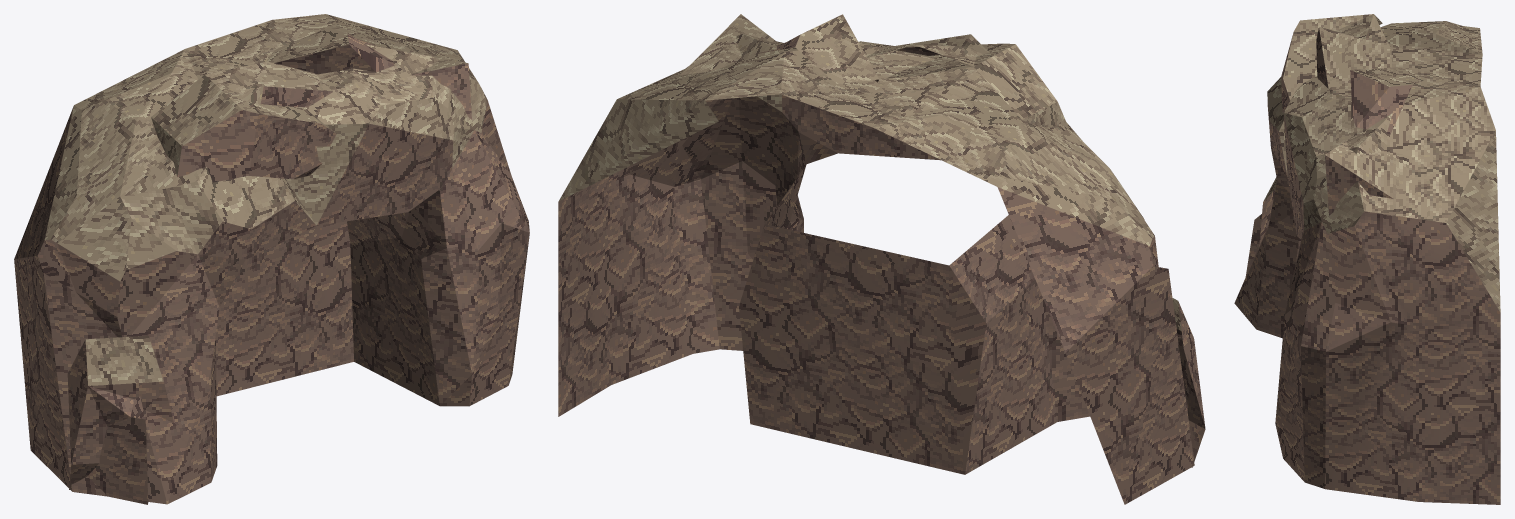
The model's file is TracksEntrance_RocksA.fbx.
3 views of the same model, side by side, from view 1: azimuth 30°, elevation 25°; view 2: azimuth 150°, elevation 25°; view 3: azimuth 270°, elevation 25° (orthographic). The views are drawn at different scales.
Parts seen in each view (by area): view 1: S_MineRockA; view 2: S_MineRockA; view 3: S_MineRockA.
Boxes of the visible parts, x1,y1,x2,y2 form: S_MineRockA: [14, 14, 529, 504]; S_MineRockA: [558, 14, 1205, 504]; S_MineRockA: [1234, 14, 1500, 504].
Bounding box in the file's own units: 471 × 330 × 229.
Materials: 2 (2 with a texture image).
